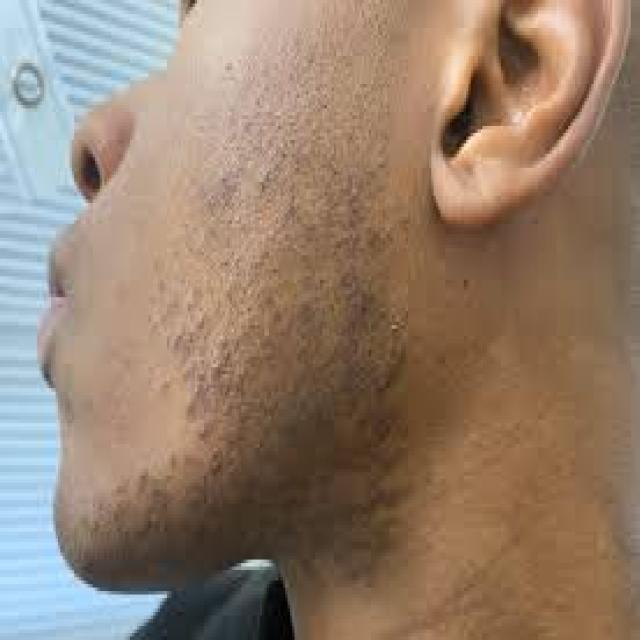pigmentation: (163, 229, 411, 519)
